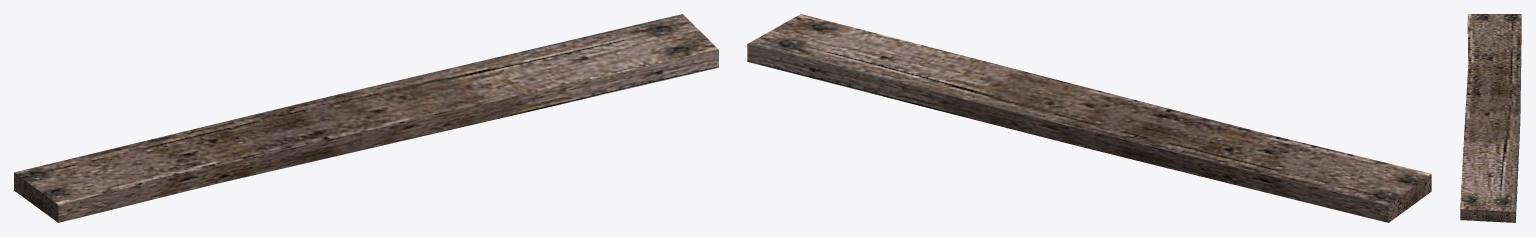
Rendered from board_2m_var4.fbx.
3 renders of one model, left to right at view 1: azimuth 30°, elevation 25°; view 2: azimuth 150°, elevation 25°; view 3: azimuth 270°, elevation 25°, orthographic. The views are drawn at different scales.
Parts seen in each view (by area): view 1: mesh_0; view 2: mesh_0; view 3: mesh_0.
Boxes of the visible parts, x1,y1,x2,y2 form: mesh_0: (14,14,718,222); mesh_0: (747,14,1431,222); mesh_0: (1460,14,1521,222).
Bounding box in the file's own units: 203 × 5.3 × 26.67.
1 material, 1 textured.
